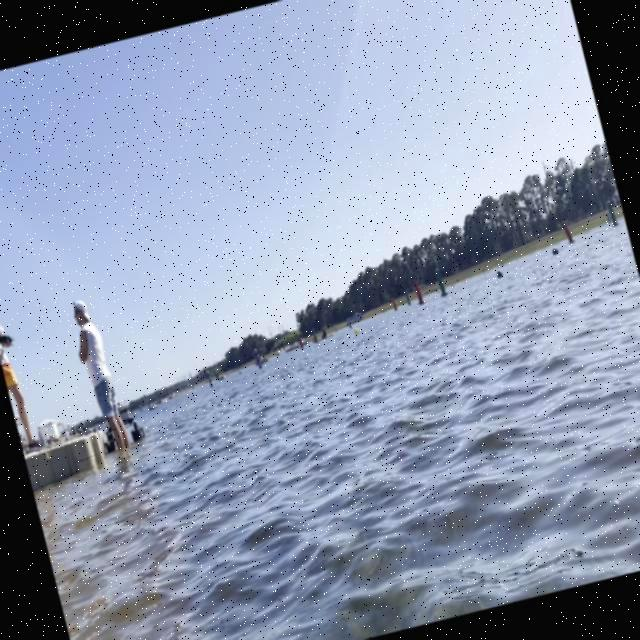buoy: (494, 268, 506, 282), (550, 244, 560, 256), (352, 326, 359, 336), (348, 322, 352, 329)
